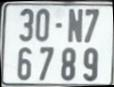-: (55, 23, 63, 30)
0: (35, 9, 50, 42)
3: (18, 7, 34, 41)
6: (17, 46, 33, 81)
7: (38, 46, 55, 82), (85, 9, 100, 44)
8: (61, 47, 77, 81)
9: (83, 46, 100, 81)
N: (67, 9, 83, 42)
